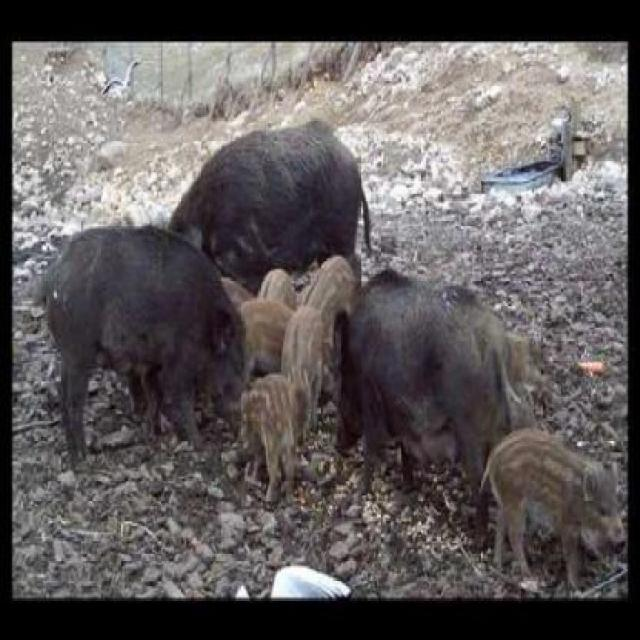pig: (39, 169, 256, 430), (326, 254, 542, 491), (172, 85, 378, 263), (484, 403, 640, 573), (252, 378, 316, 480), (235, 268, 292, 364), (297, 244, 355, 298), (297, 303, 335, 364)
